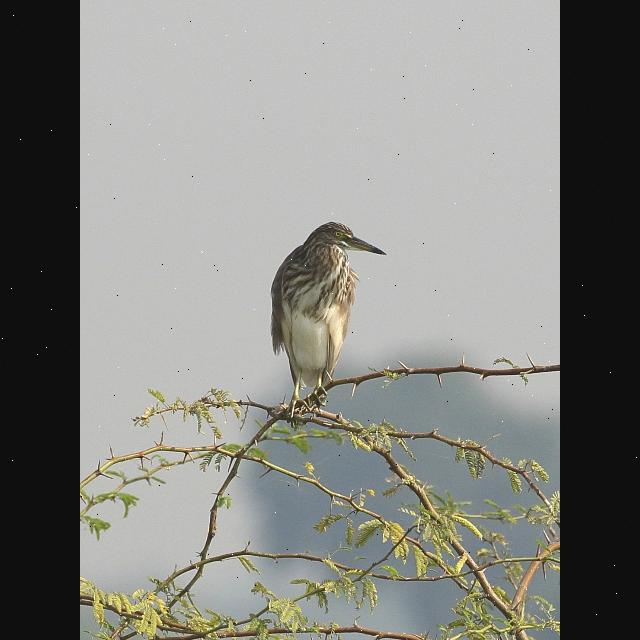heron: (258, 206, 396, 418)
